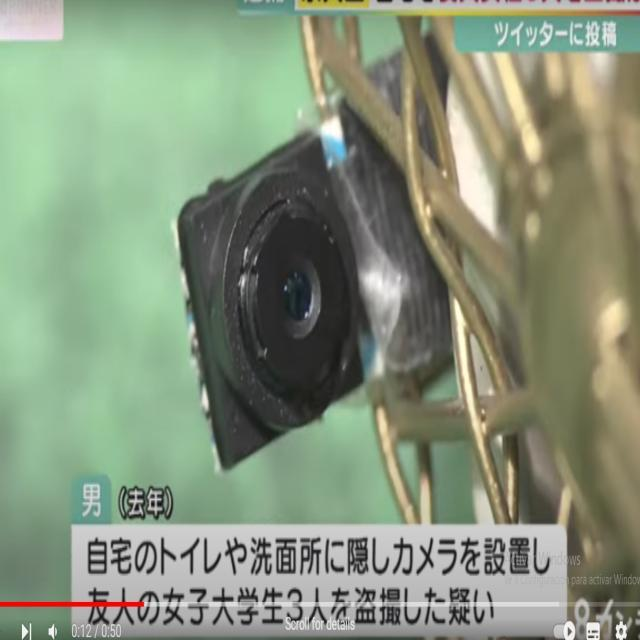hidden camera: (279, 267, 310, 323)
